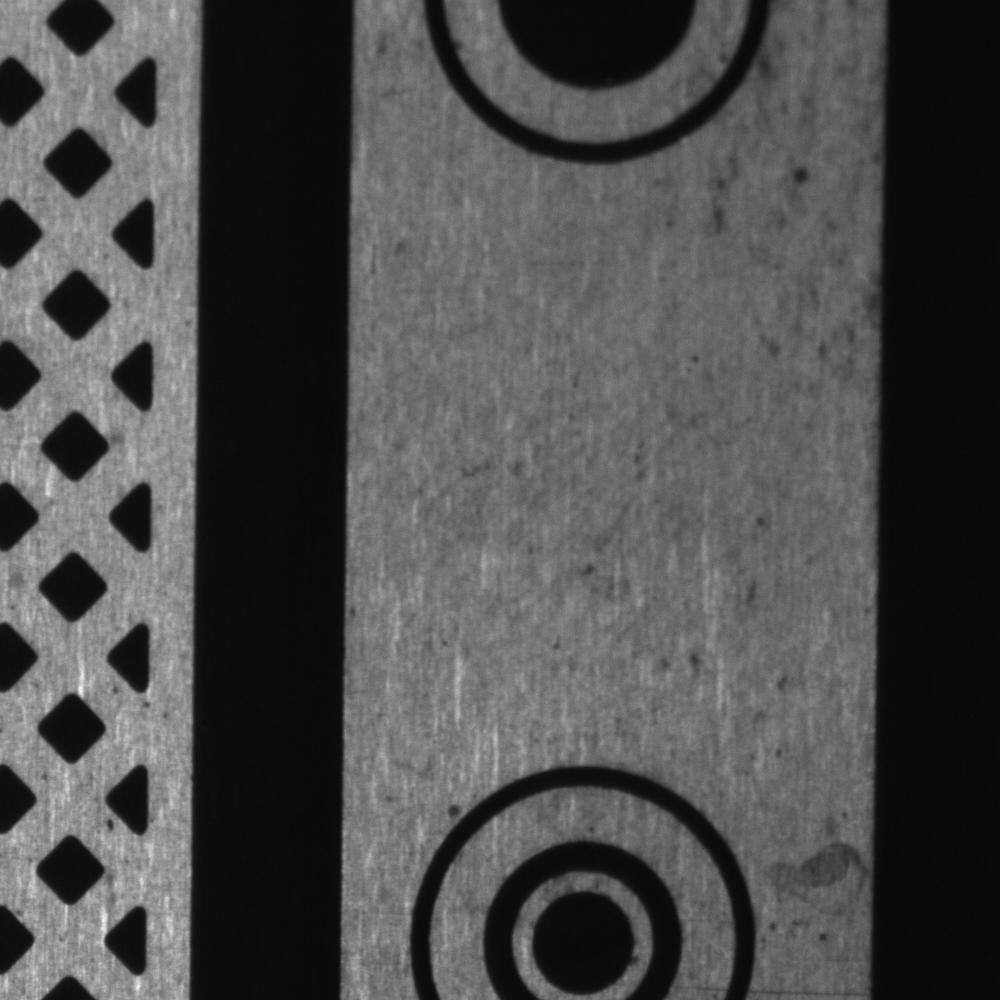Discolor: (751, 817, 879, 946)
Etching: (756, 23, 881, 386)
